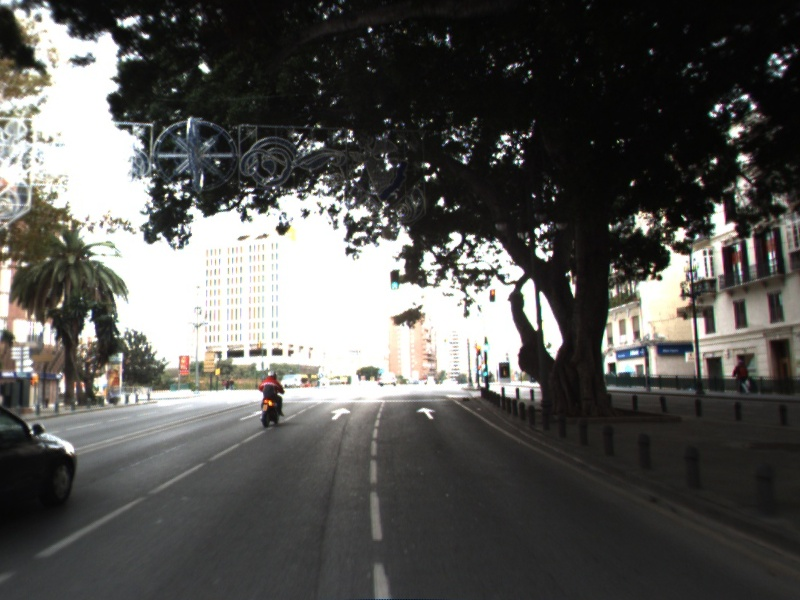STRAIGHT: (414, 405, 438, 421), (328, 406, 352, 422)
